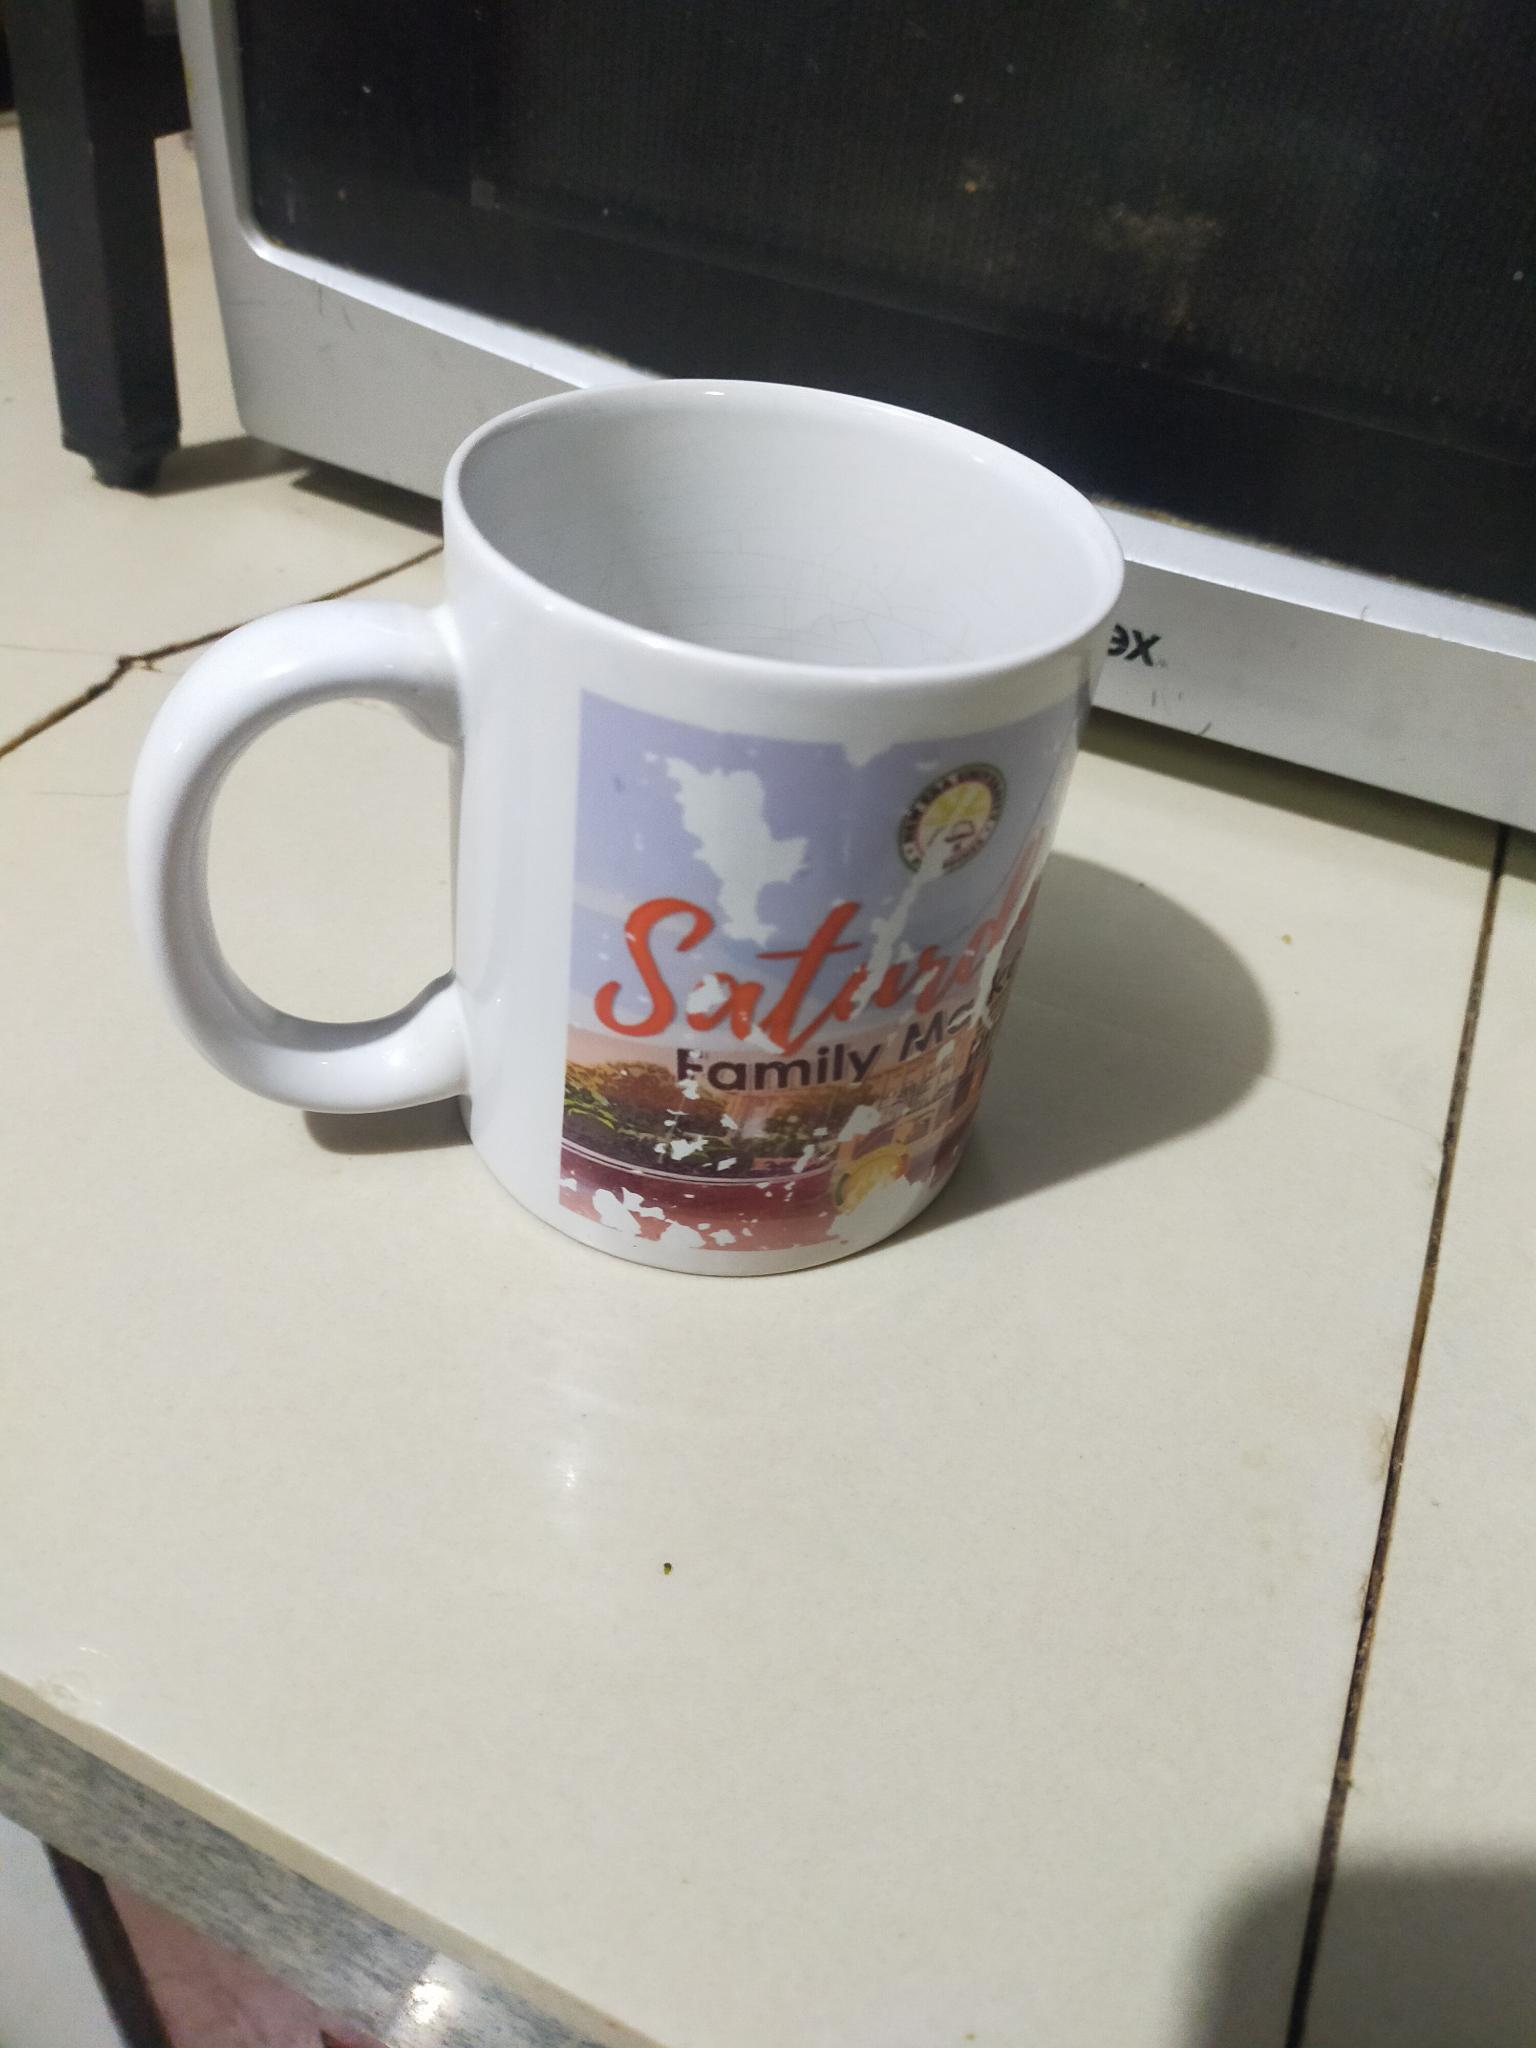Coffee Mug: (138, 379, 1116, 1275)
